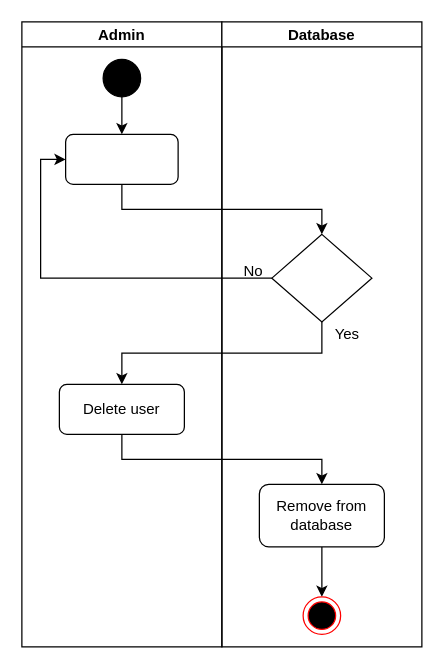
Some shapes in this 444 by 669 pixel diagram are drawn without their labels. The shapes that lost their labels are listed below. From the top down, each one's centre as x and y in pixels, then its label:
At pixel 121 158: "View users".
At pixel 321 277: "inactive user?".
